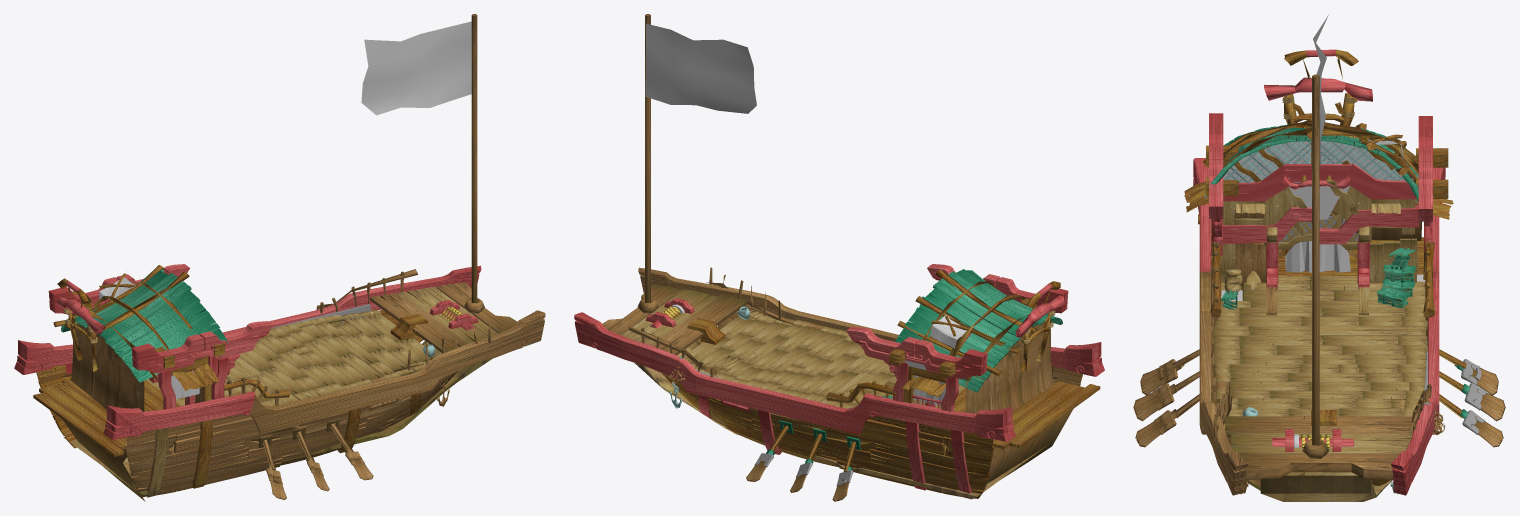
File: 船_lowpoly21.FBX
3 renders of one model, left to right at view 1: azimuth 30°, elevation 25°; view 2: azimuth 150°, elevation 25°; view 3: azimuth 270°, elevation 25°, orthographic. The views are drawn at different scales.
Visible parts, largest first — view 1: Object528, 旗帜, Plane01, Object12, Object261, Cylinder018, 船底, Object198, Object200, Object76, Object77, Object36 (+10 smaller); view 2: Object12, 旗帜, Object528, Plane01, Object36, 船底, Object63, Group15, Object58, Cylinder018, Object61, Object59 (+20 smaller); view 3: Object528, Object12, 船底, Cylinder018, Object07, Object67, Object223, Object182, Object36, Object123, Object261, Object112 (+56 smaller).
Boxes of the visible parts, x1=… form: Object528: x1=103, y1=282, x2=545, y2=499; 旗帜: x1=361, y1=21, x2=471, y2=115; Plane01: x1=62, y1=324, x2=145, y2=501; Object12: x1=14, y1=265, x2=481, y2=374; Object261: x1=131, y1=321, x2=272, y2=373; Cylinder018: x1=471, y1=14, x2=477, y2=302; 船底: x1=63, y1=341, x2=492, y2=495; Object198: x1=104, y1=289, x2=200, y2=350; Object200: x1=114, y1=301, x2=210, y2=361; Object76: x1=33, y1=392, x2=123, y2=456; Object77: x1=39, y1=385, x2=126, y2=449; Object36: x1=48, y1=264, x2=189, y2=314; Object12: x1=574, y1=312, x2=1015, y2=441; 旗帜: x1=645, y1=23, x2=756, y2=113; Object528: x1=602, y1=267, x2=1104, y2=443; Plane01: x1=966, y1=323, x2=1073, y2=483; Object36: x1=846, y1=326, x2=987, y2=378; 船底: x1=634, y1=342, x2=1048, y2=498; Object63: x1=789, y1=417, x2=945, y2=455; Group15: x1=869, y1=416, x2=994, y2=464; Object58: x1=751, y1=418, x2=871, y2=462; Cylinder018: x1=645, y1=14, x2=650, y2=302; Object61: x1=870, y1=449, x2=989, y2=486; Object59: x1=836, y1=455, x2=986, y2=498; Object528: x1=1133, y1=158, x2=1412, y2=495; Object12: x1=1391, y1=167, x2=1445, y2=495; 船底: x1=1228, y1=312, x2=1409, y2=501; Cylinder018: x1=1312, y1=74, x2=1319, y2=445; Object07: x1=1204, y1=140, x2=1403, y2=197; Object67: x1=1223, y1=141, x2=1404, y2=182; Object223: x1=1319, y1=205, x2=1419, y2=244; Object182: x1=1231, y1=433, x2=1412, y2=447; Object36: x1=1418, y1=116, x2=1432, y2=221; Object123: x1=1285, y1=216, x2=1350, y2=272; Object261: x1=1209, y1=113, x2=1223, y2=218; Object112: x1=1223, y1=207, x2=1311, y2=244.
Size of the model in its own units: 43.06 by 34.14 by 24.07.
